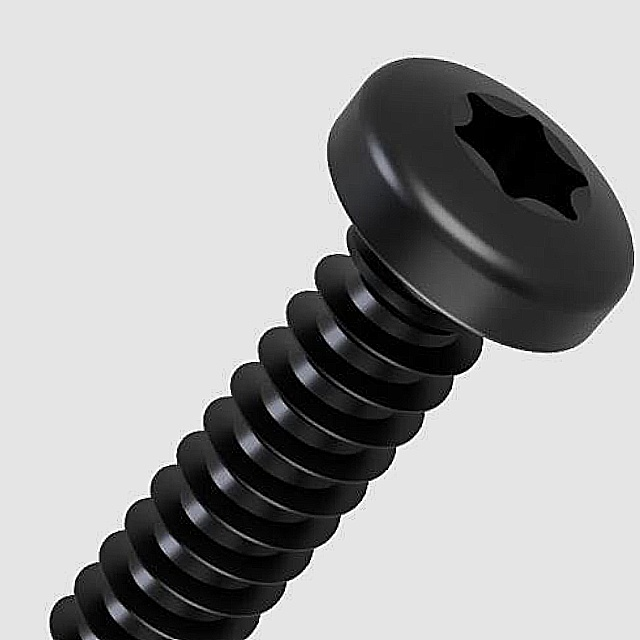torx: (323, 48, 640, 356)
